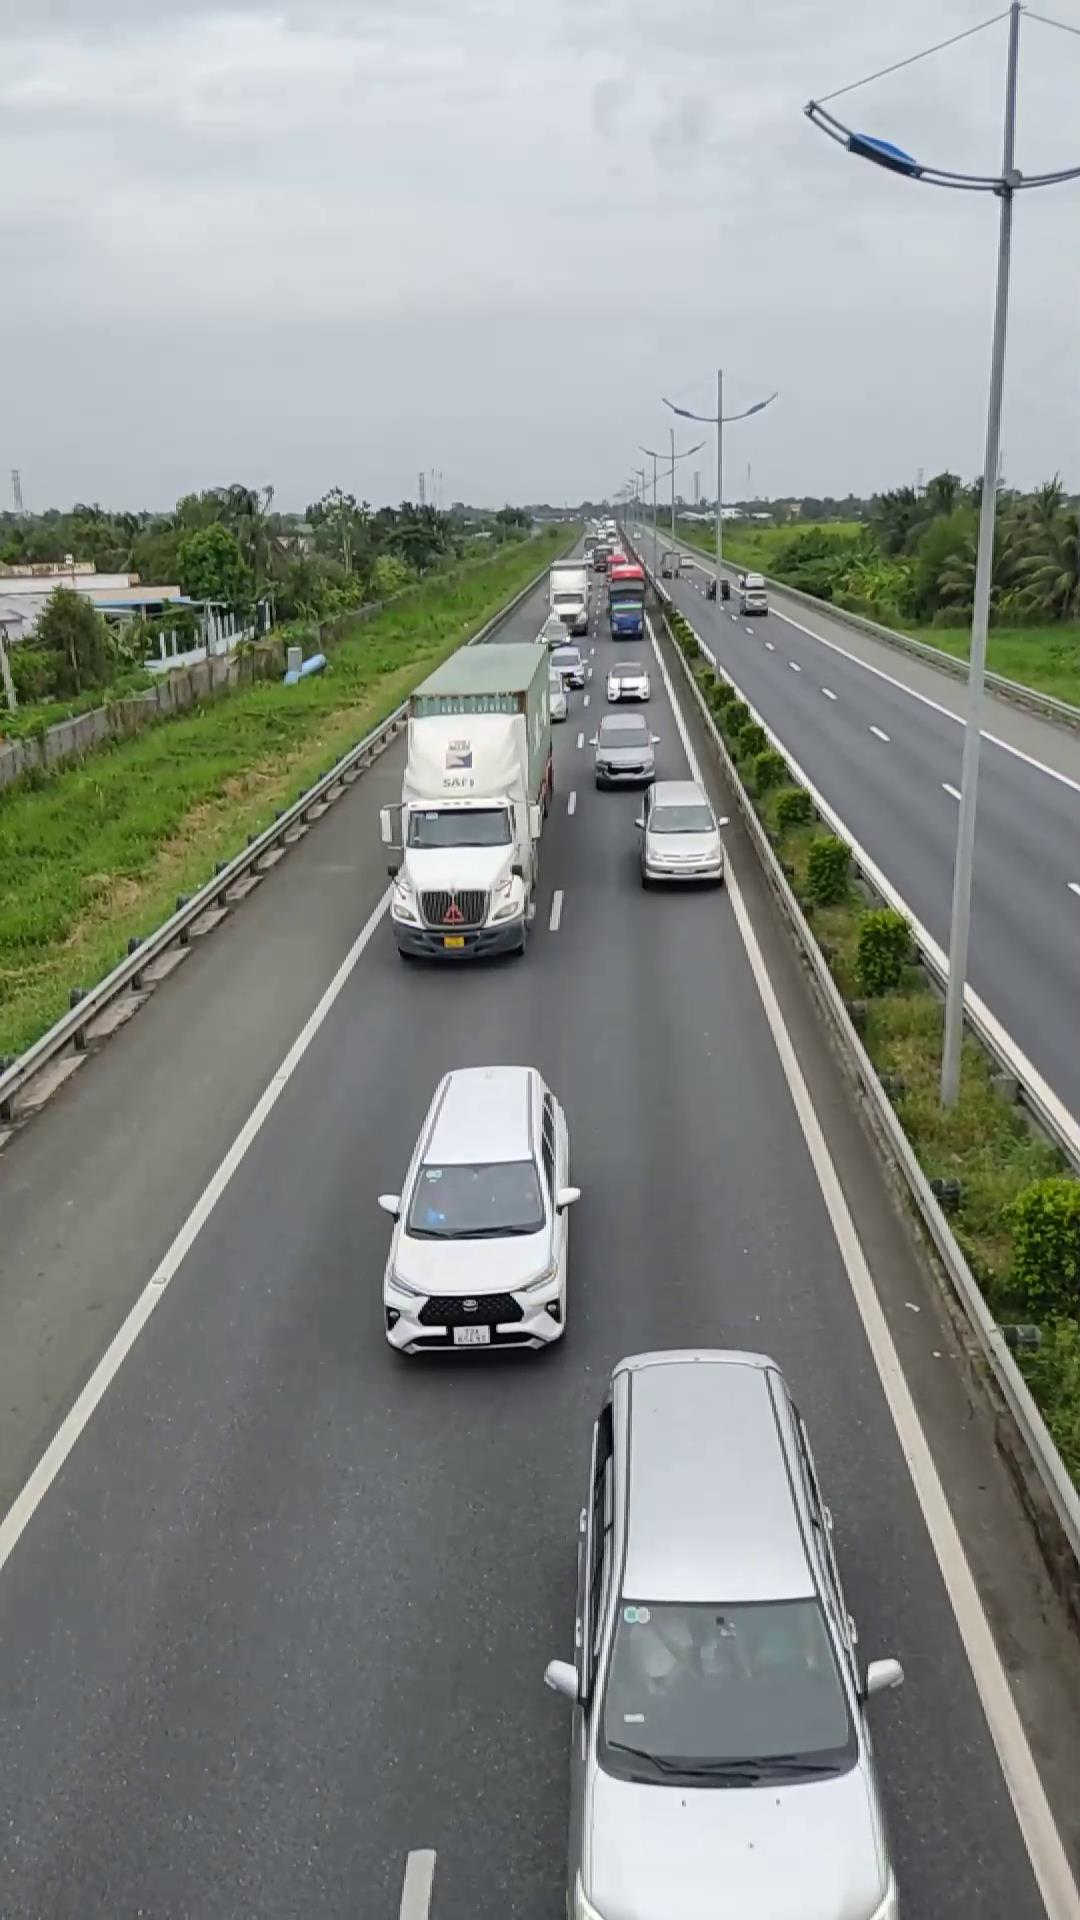car: (545, 1346, 903, 1917), (375, 1062, 579, 1362), (636, 779, 728, 887), (588, 717, 657, 787)
container: (385, 637, 556, 963)
